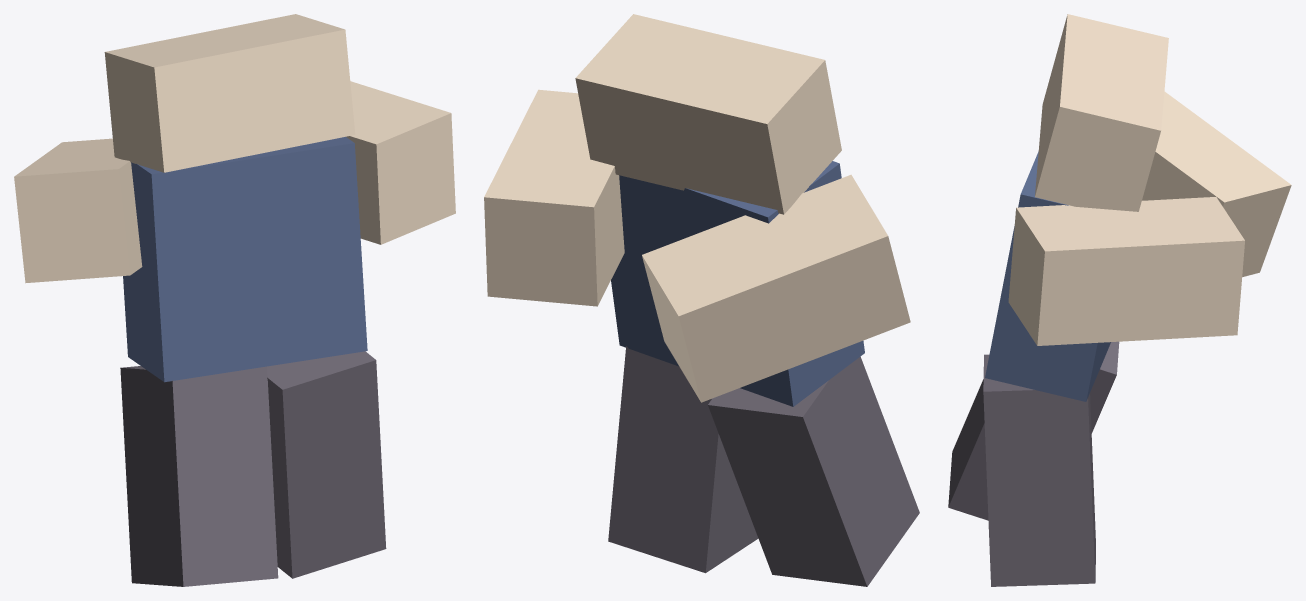
Rendered from HO_Anim_Sword_Block.fbx.
3 renders of one model, left to right at view 1: azimuth 30°, elevation 25°; view 2: azimuth 150°, elevation 25°; view 3: azimuth 270°, elevation 25°, orthographic. The views are drawn at different scales.
Visible parts, largest first — view 1: Torso, Left Leg, Head, Right Leg, Left Arm, Right Arm; view 2: Head, Left Arm, Left Leg, Right Arm, Right Leg, Torso; view 3: Right Arm, Right Leg, Head, Left Arm, Torso, Left Leg.
Boxes of the visible parts, x1=… form: Torso: x1=123, y1=137, x2=367, y2=382; Left Leg: x1=120, y1=366, x2=278, y2=586; Head: x1=104, y1=14, x2=355, y2=172; Right Leg: x1=267, y1=351, x2=386, y2=578; Left Arm: x1=14, y1=138, x2=142, y2=283; Right Arm: x1=346, y1=81, x2=455, y2=244; Head: x1=575, y1=14, x2=841, y2=214; Left Arm: x1=642, y1=174, x2=910, y2=402; Left Leg: x1=708, y1=356, x2=919, y2=586; Right Arm: x1=484, y1=89, x2=624, y2=306; Right Leg: x1=608, y1=346, x2=758, y2=573; Torso: x1=611, y1=161, x2=864, y2=406; Right Arm: x1=1008, y1=197, x2=1244, y2=345; Right Leg: x1=983, y1=354, x2=1095, y2=586; Head: x1=1035, y1=14, x2=1168, y2=211; Left Arm: x1=1142, y1=91, x2=1291, y2=276; Torso: x1=985, y1=151, x2=1110, y2=401; Left Leg: x1=948, y1=341, x2=1119, y2=520.
Size of the model in its own units: 4.18 by 5.25 by 3.29.
